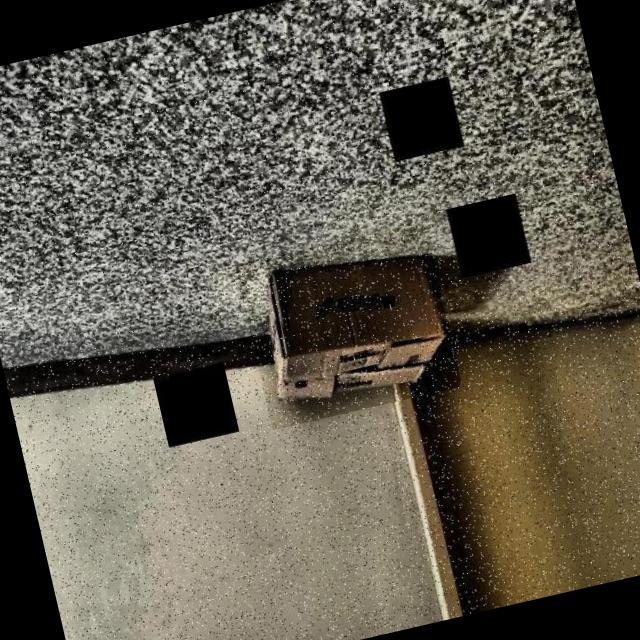box: (233, 221, 462, 430)
